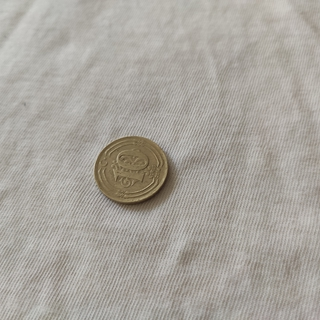10KURUS: (93, 134, 171, 206)
